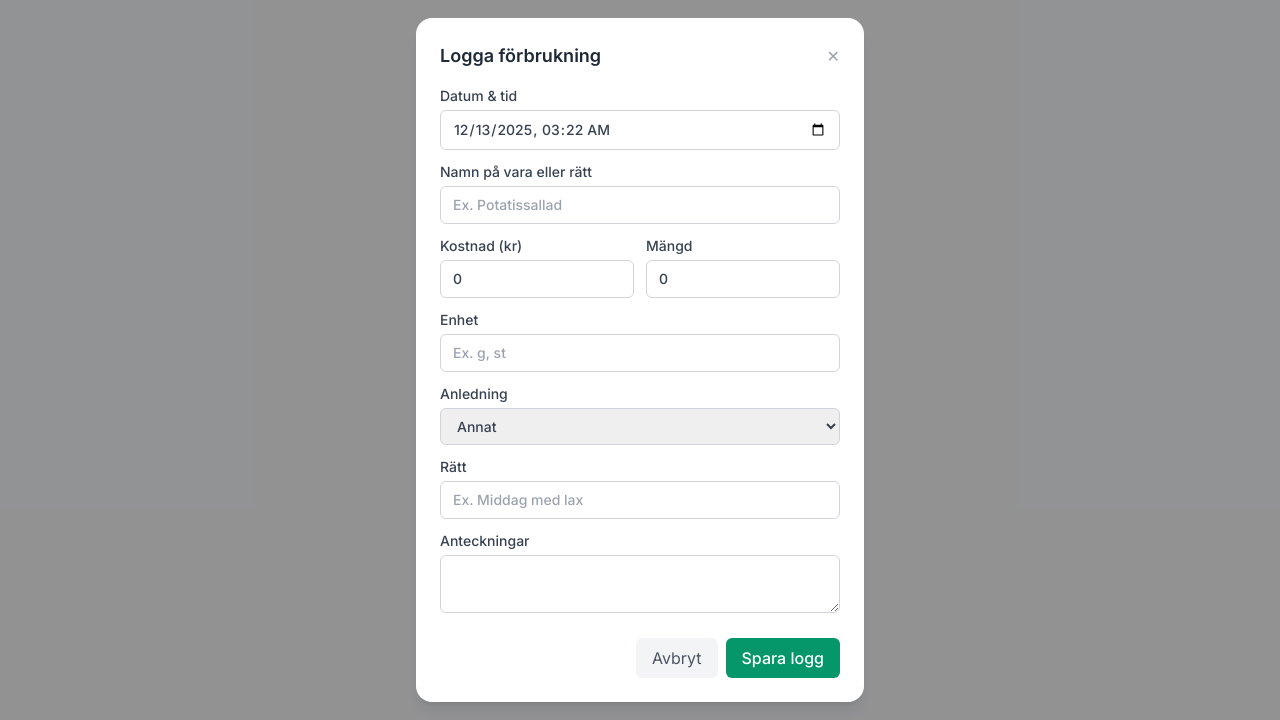
Test case: ManualConsumptionLogModal › shows error when submission fails
// Fill required field
Type "Test Item" into the field with placeholder "Ex. Potatissallad". click: (640, 205)
box: [440,186,840,224]
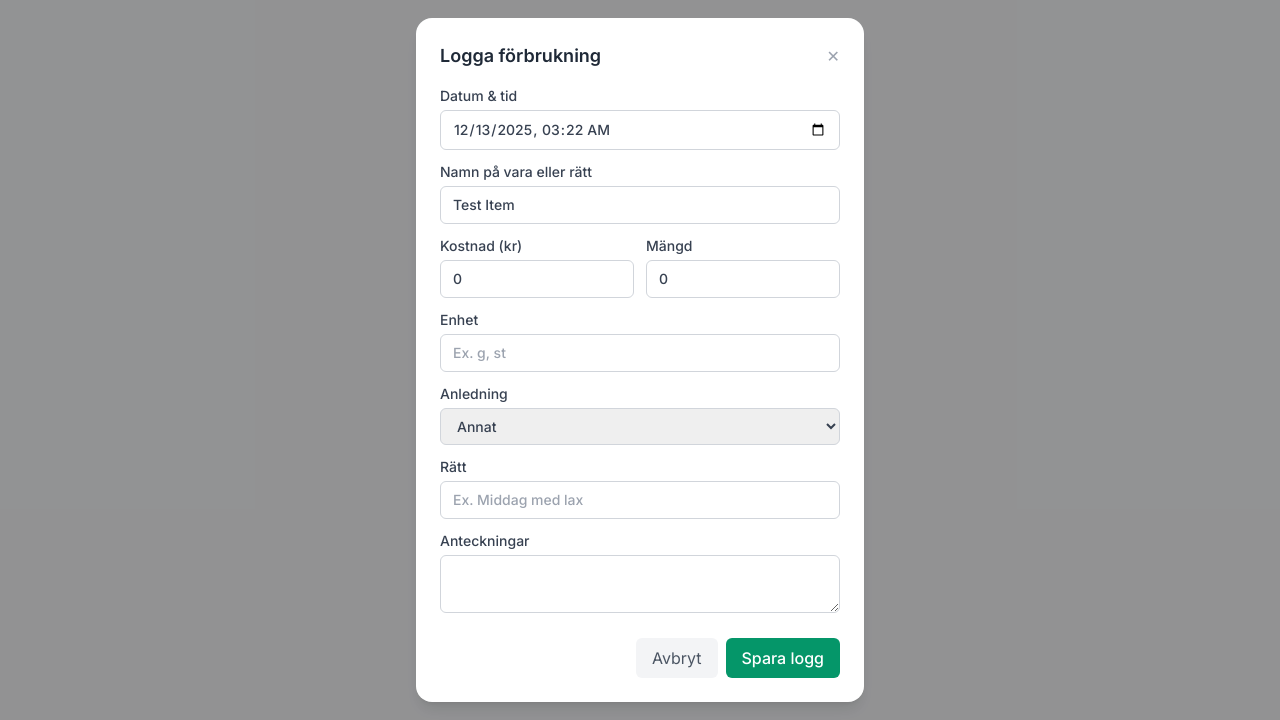
Click the button "Spara logg". click: (783, 658)
box: [726,638,840,678]
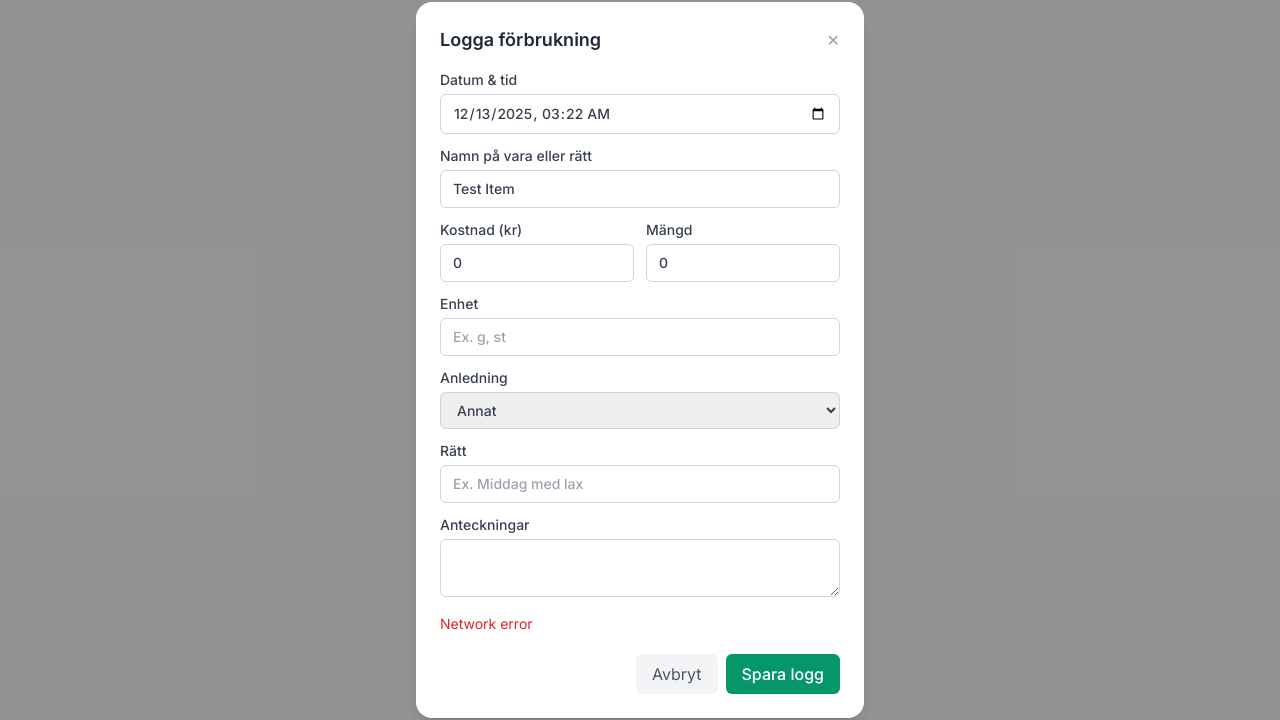
Now the text "Network error" is shown, box [440,615,533,632]
